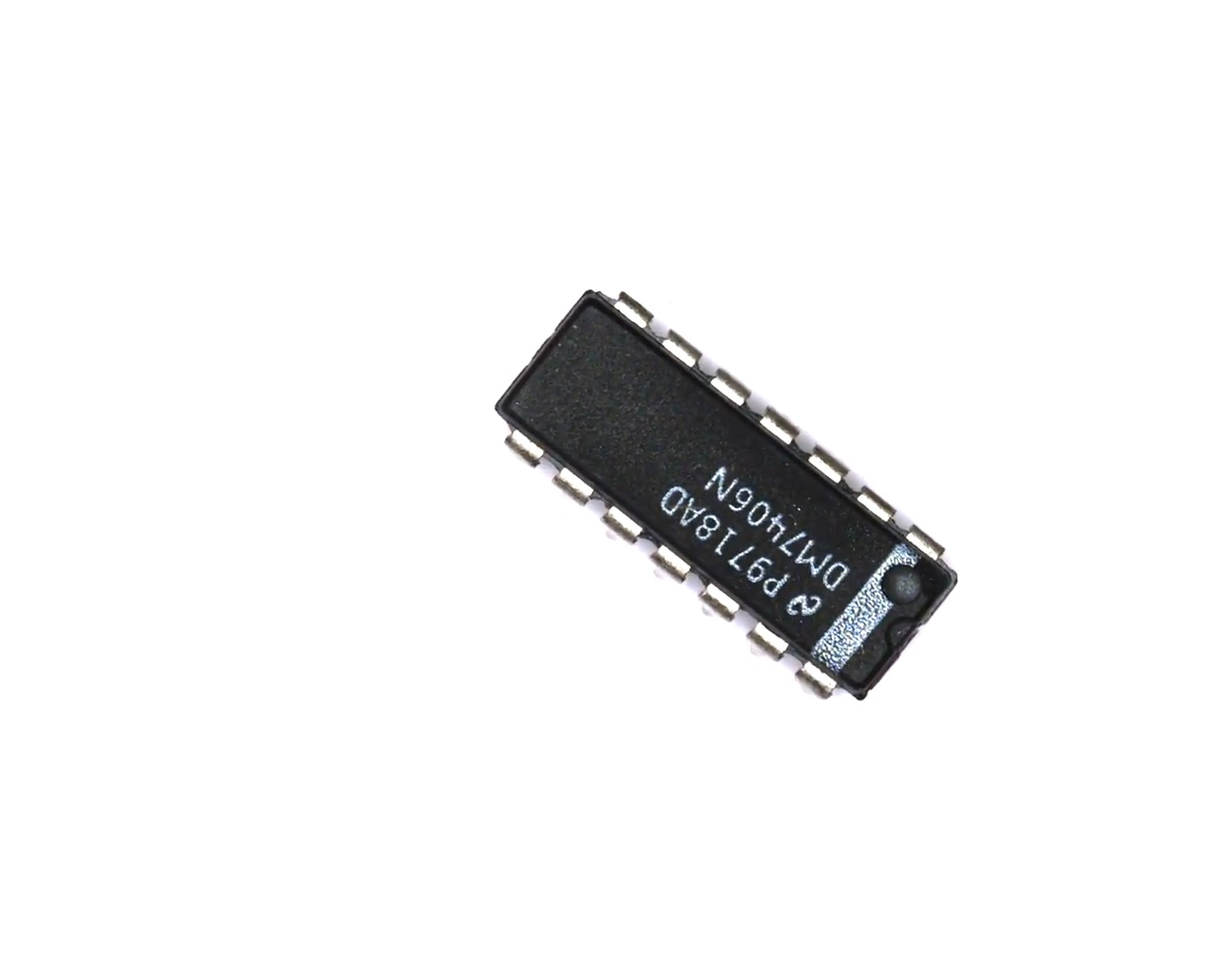IC: (463, 258, 993, 735)
notch: (882, 611, 924, 662)
